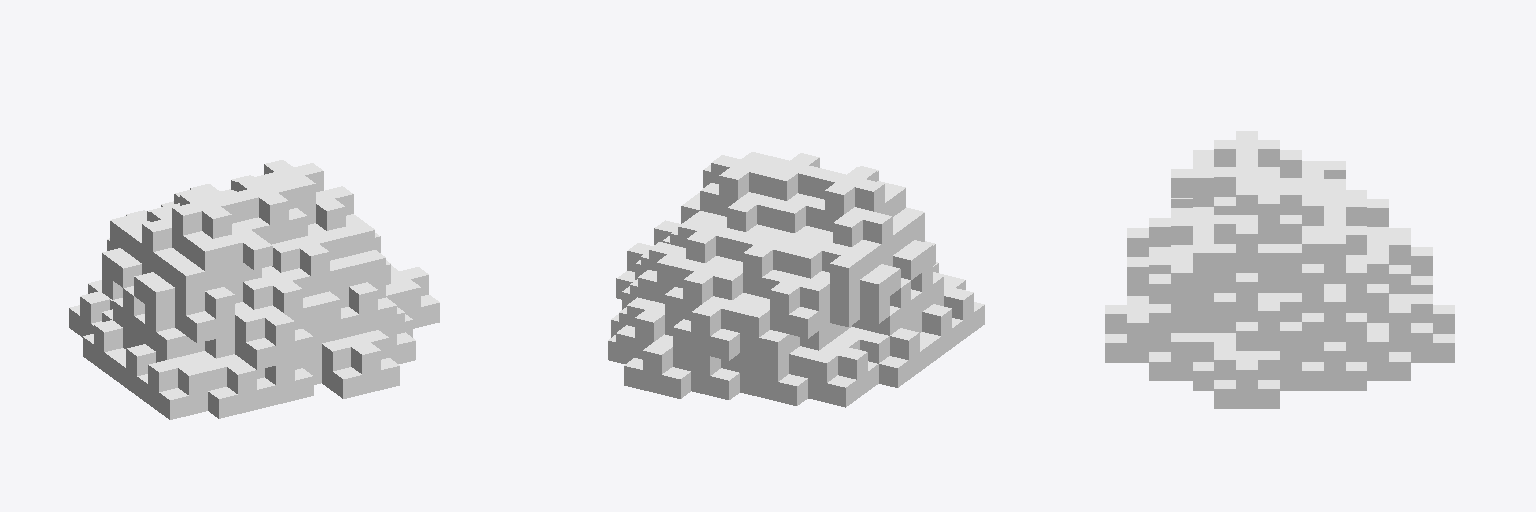
Rendered from prop_bush_t1.obj.
3 renders of one model, left to right at view 1: azimuth 30°, elevation 25°; view 2: azimuth 150°, elevation 25°; view 3: azimuth 270°, elevation 25°, orthographic.
Visible parts, largest first — view 1: object 1; view 2: object 1; view 3: object 1.
Boxes of the visible parts, x1,y1,x2,y2 form: object 1: [69, 160, 439, 419]; object 1: [608, 152, 984, 407]; object 1: [1105, 131, 1454, 408].
Size of the model in its own units: 1.6 by 0.8 by 1.6.